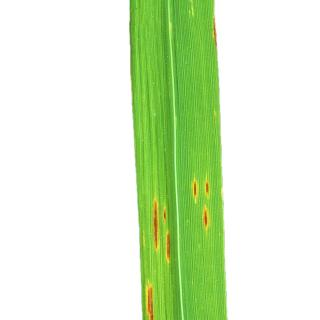Bercak-Cokelat-Sempit: (145, 198, 172, 260), (190, 175, 216, 230), (141, 277, 158, 320), (210, 16, 226, 52)
